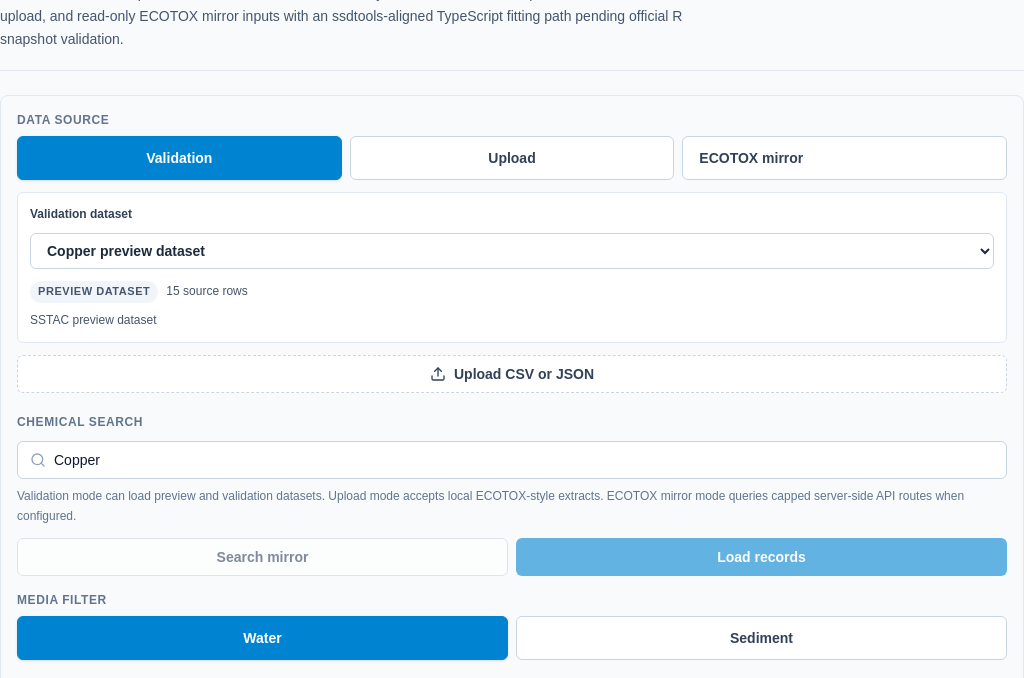
SsdWorkbench › switches validation mode to the CCME validation datasets
Select "CCME boron validation" in the dropdown labelled "Validation dataset" at x=512, y=251, box x1=30 y1=233 x2=994 y2=269
(page scrolled)
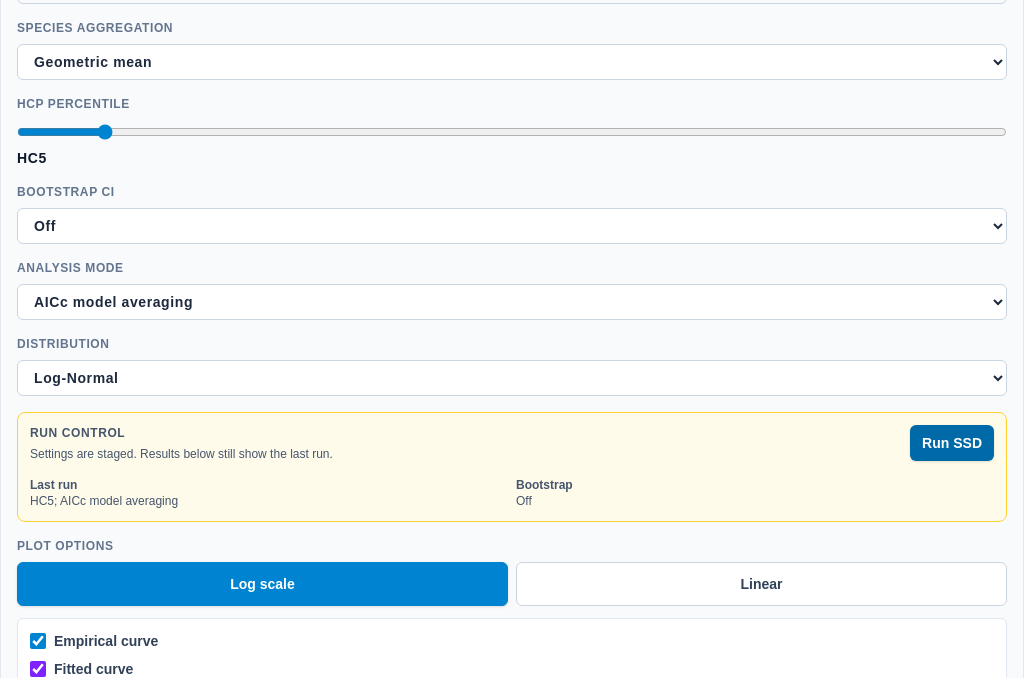
Select "AICc model averaging" in the dropdown labelled "Analysis mode" at x=512, y=302, box x1=17 y1=284 x2=1007 y2=320
Now the text "Settings are staged. Results below still show the last run." is shown, box x1=30 y1=445 x2=333 y2=465
Click the button "Run SSD" at x=952, y=443, box x1=910 y1=425 x2=994 y2=461
(page scrolled)
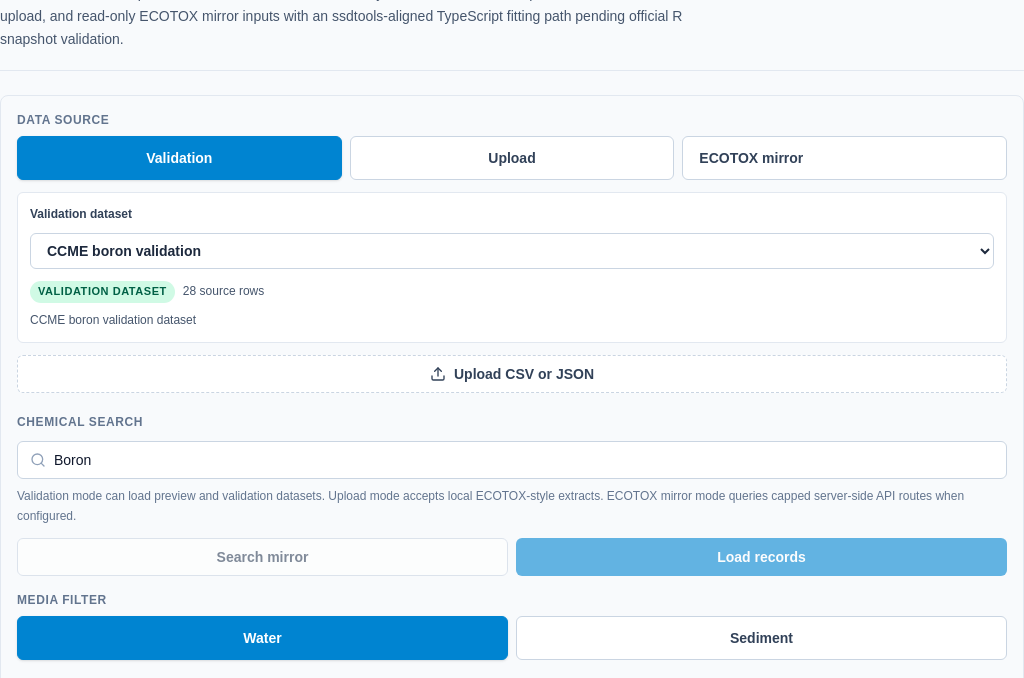
Select "CCME endosulfan validation" in the dropdown labelled "Validation dataset" at x=512, y=251, box x1=30 y1=233 x2=994 y2=269
(page scrolled)
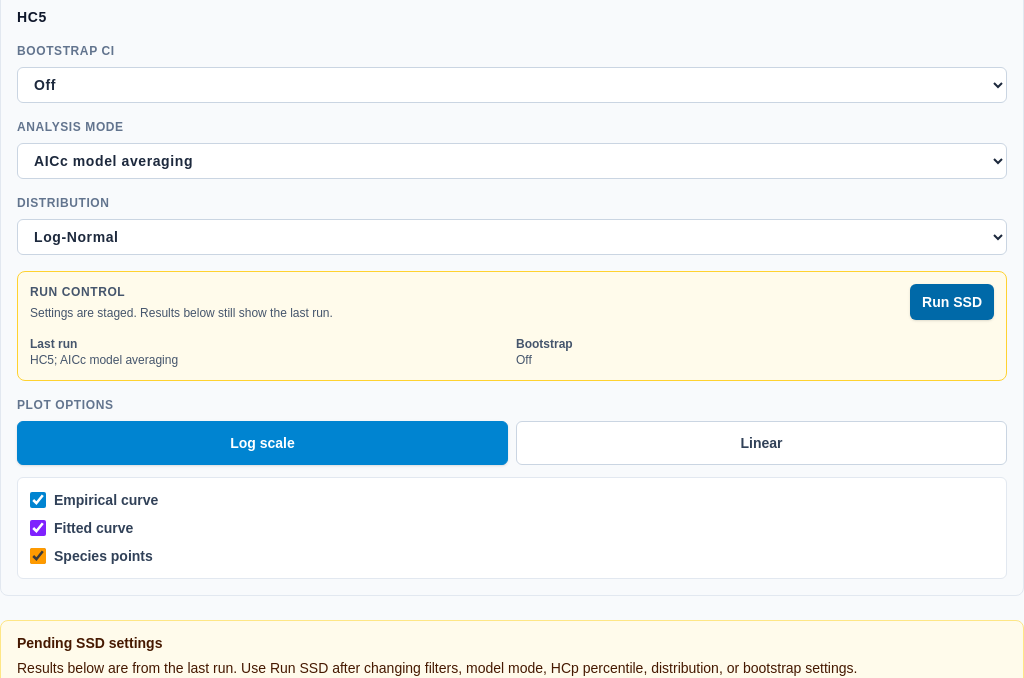
Click the button "Run SSD" at x=952, y=302, box x1=910 y1=284 x2=994 y2=320
(page scrolled)
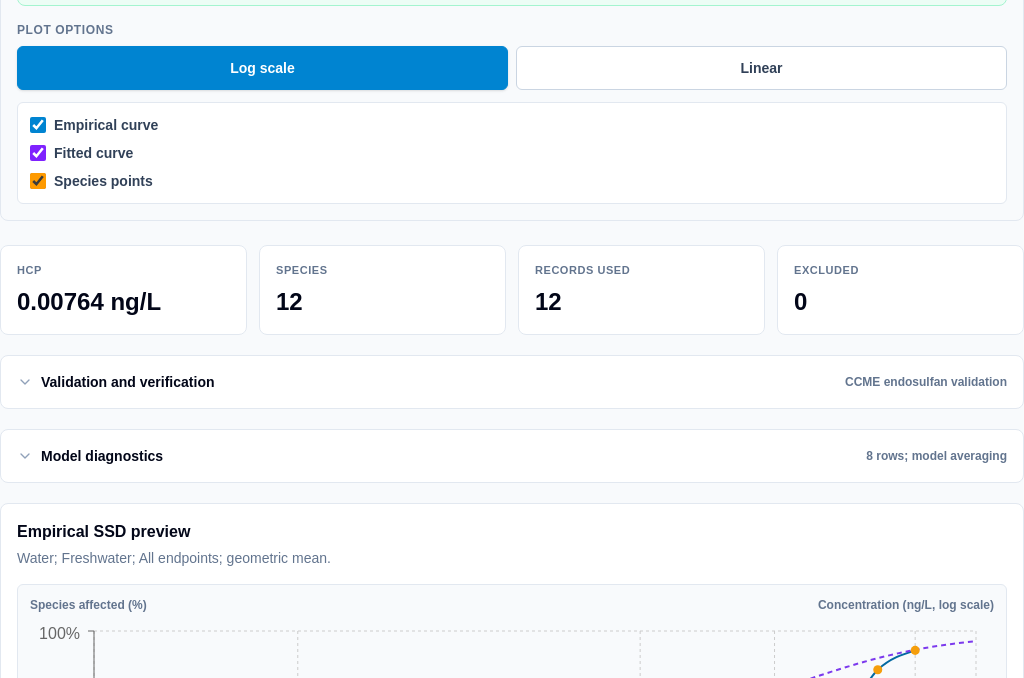
Now the text "0.00764 ng/L" is shown, box x1=17 y1=288 x2=161 y2=315
